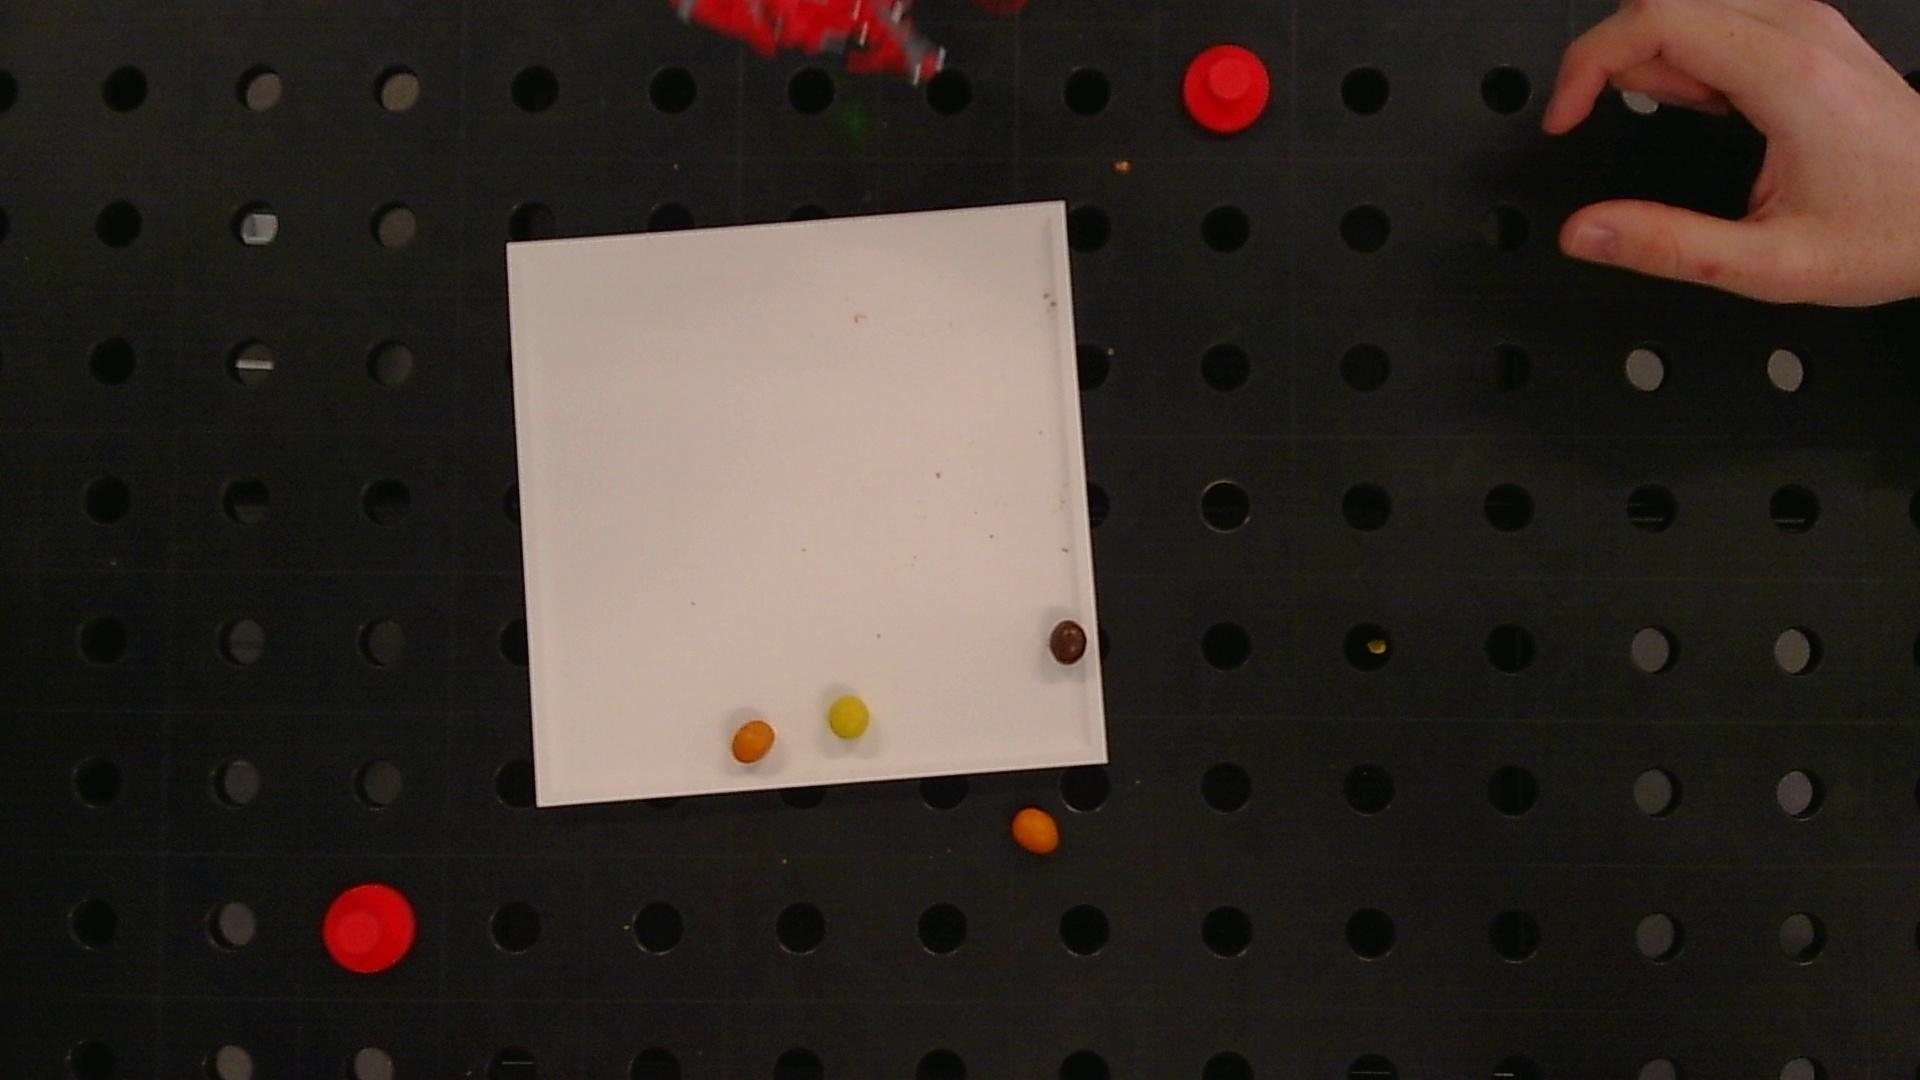brown: (1048, 620, 1088, 665)
orange: (1011, 808, 1060, 855), (732, 720, 775, 764)
yellow: (828, 696, 869, 738)
